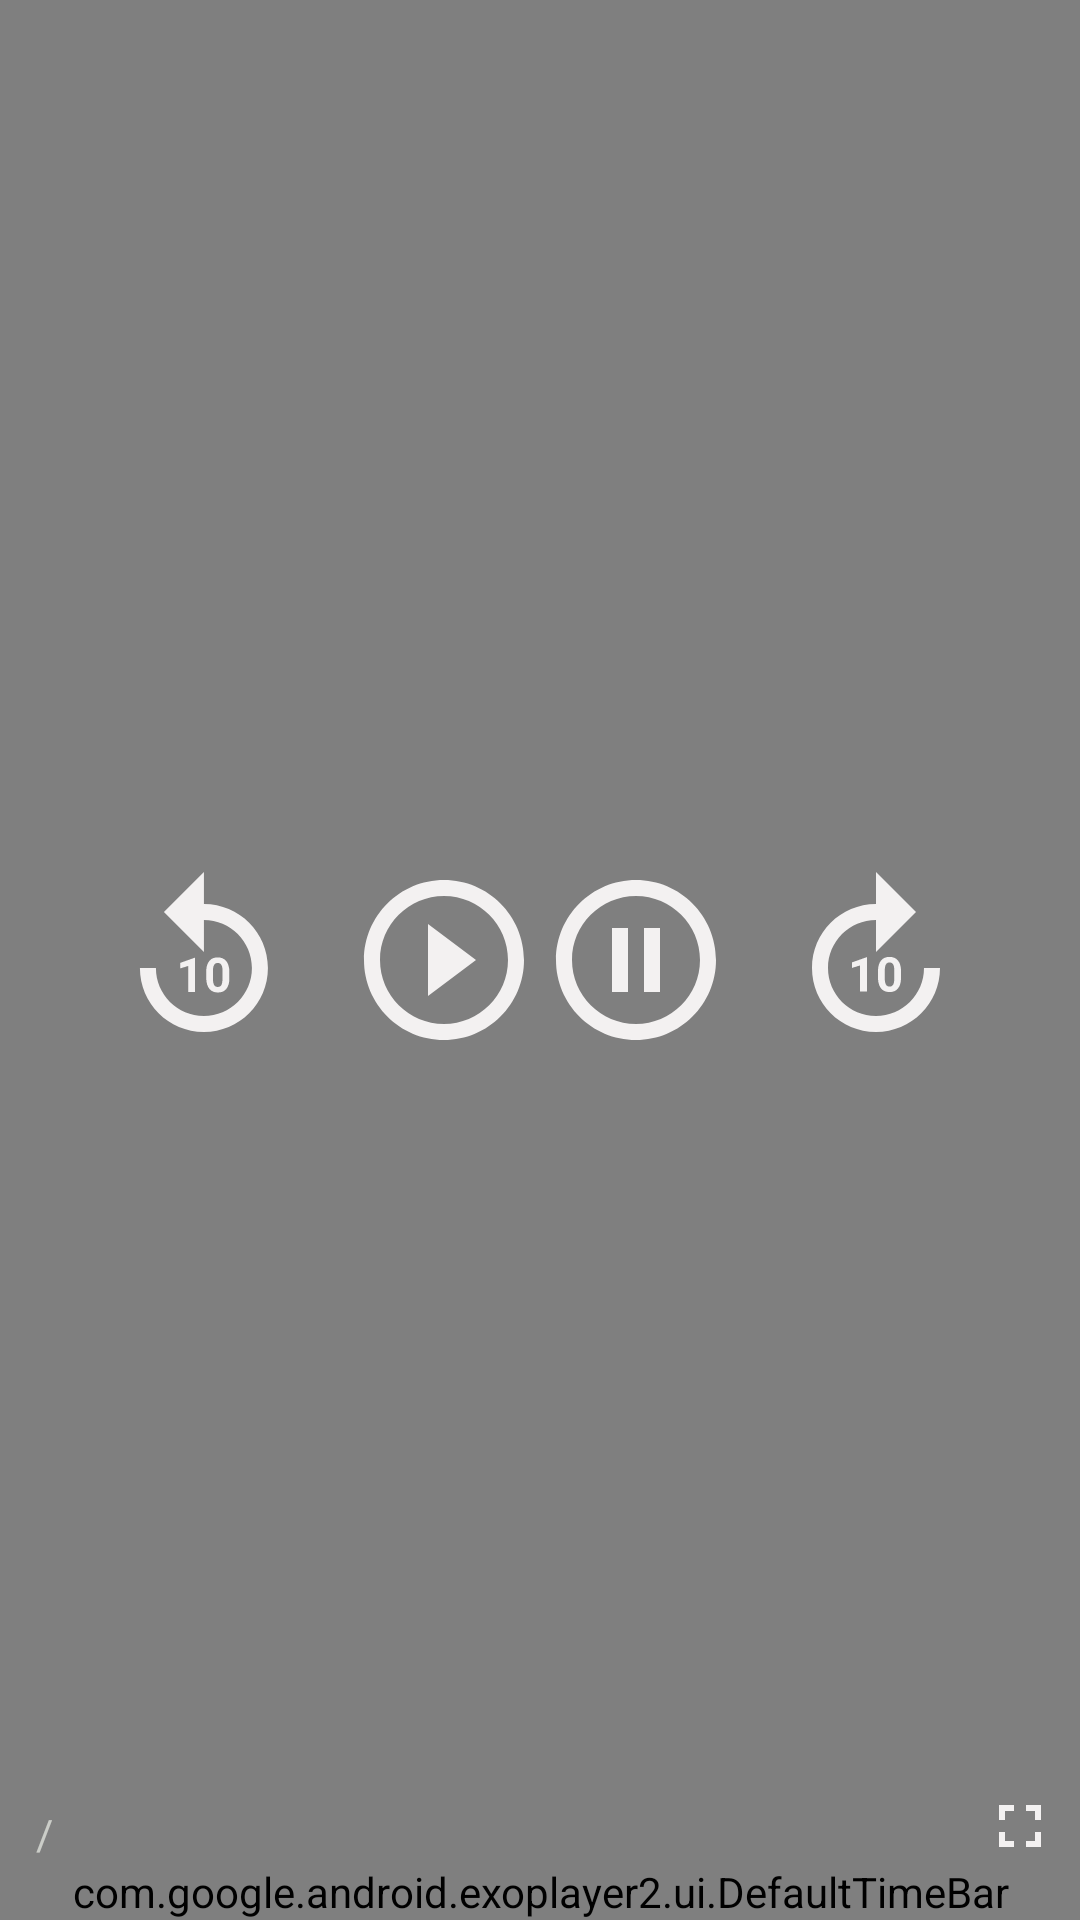

Locate icon controls on the screen. Image size 1080x1920, boxes as (x1, y1, x2, y2).
forward: (812, 872, 940, 1032)
fullscreen: (999, 1805, 1041, 1847)
pause: (556, 880, 716, 1040)
play circle: (364, 880, 524, 1040)
replay: (140, 872, 268, 1032)
